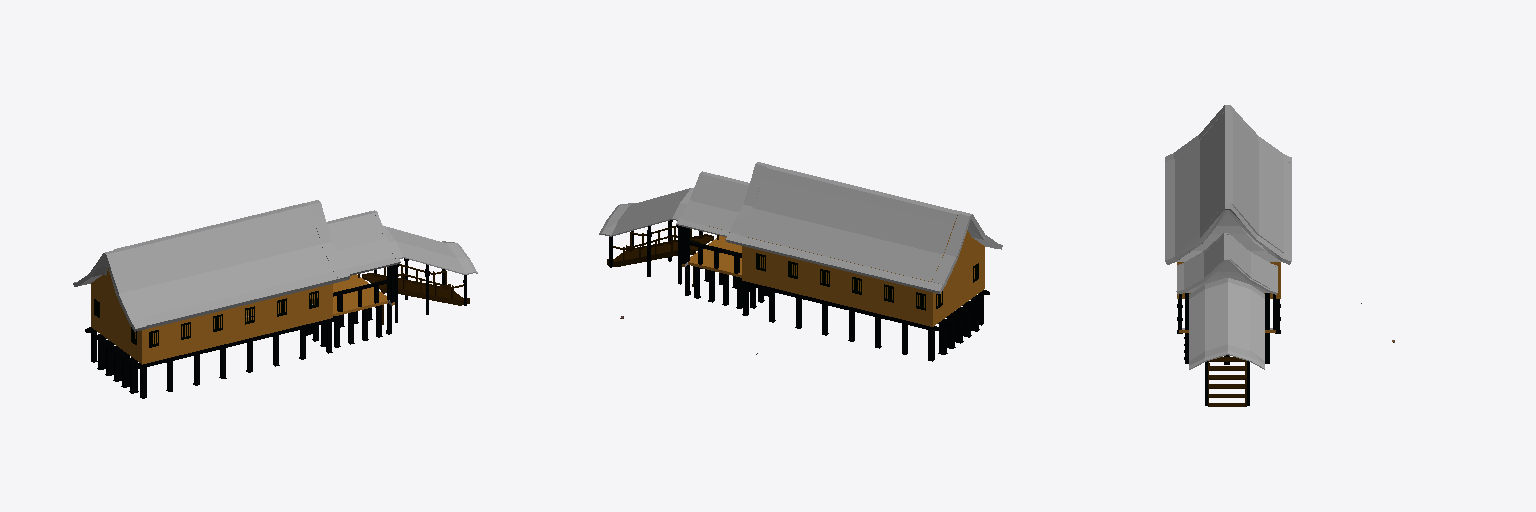
3 views of the same model, side by side, from view 1: azimuth 30°, elevation 25°; view 2: azimuth 150°, elevation 25°; view 3: azimuth 270°, elevation 25° (orthographic).
Parts seen in each view (by area): view 1: rumah_Cube; view 2: rumah_Cube; view 3: rumah_Cube.
Part boxes in pixels (x1,y1,x2,y2): rumah_Cube: (73,200,477,398); rumah_Cube: (599,162,1002,361); rumah_Cube: (1165,105,1291,406).
Size of the model in its own units: 36.59 by 12.79 by 20.51.
Materials: 16 (2 with a texture image).